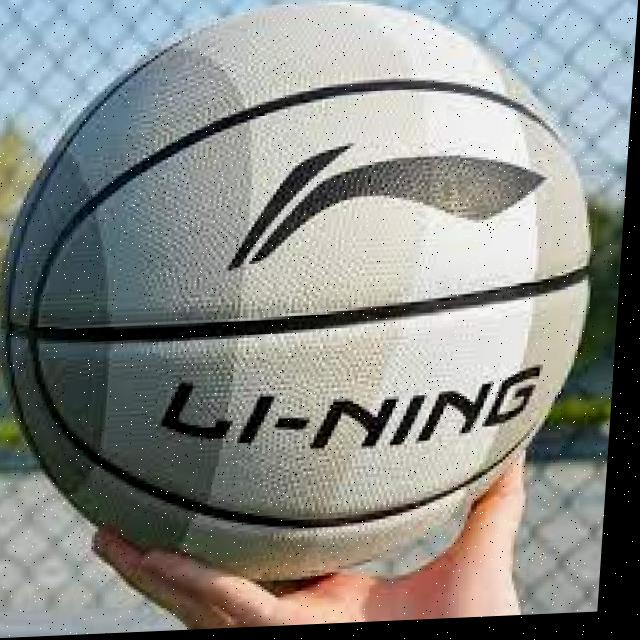Basketball: (0, 0, 612, 593)
